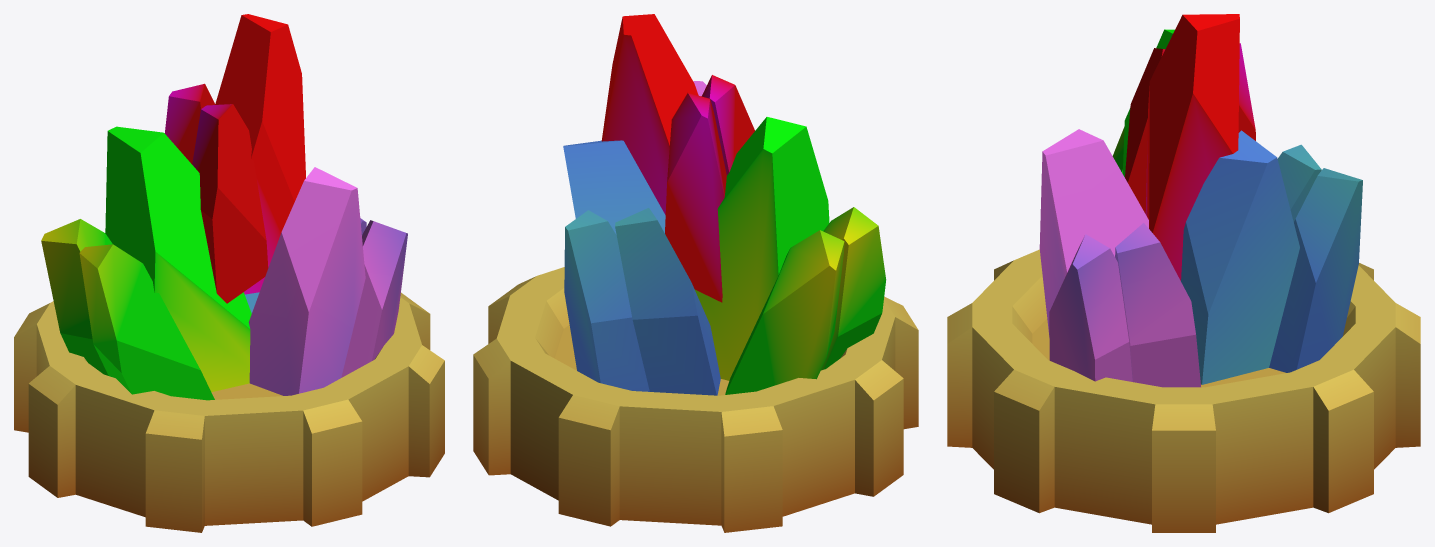
File: разноцветный слот .fbx
The picture shows the model from 3 angles, left to right: view 1: azimuth 30°, elevation 25°; view 2: azimuth 150°, elevation 25°; view 3: azimuth 270°, elevation 25°; orthographic projection. The views are drawn at different scales.
Visible parts, largest first — view 1: Cube.020, Cylinder.017; view 2: Cube.020, Cylinder.017; view 3: Cube.020, Cylinder.017.
Part boxes in pixels (x1,y1,x2,y2): Cube.020: [41, 14, 407, 400]; Cylinder.017: [14, 292, 444, 532]; Cube.020: [563, 14, 886, 395]; Cylinder.017: [473, 267, 918, 532]; Cube.020: [1039, 14, 1362, 387]; Cylinder.017: [947, 249, 1420, 532].
Bounding box in the file's own units: 212 × 219 × 212.
